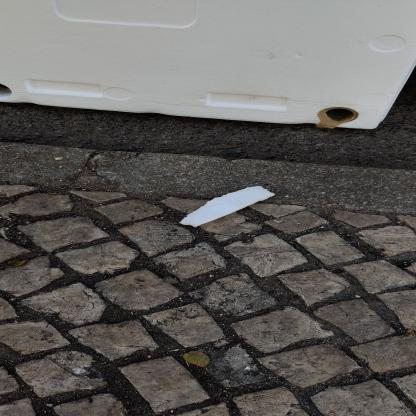kopuk: (3, 1, 416, 138), (180, 185, 279, 229)
